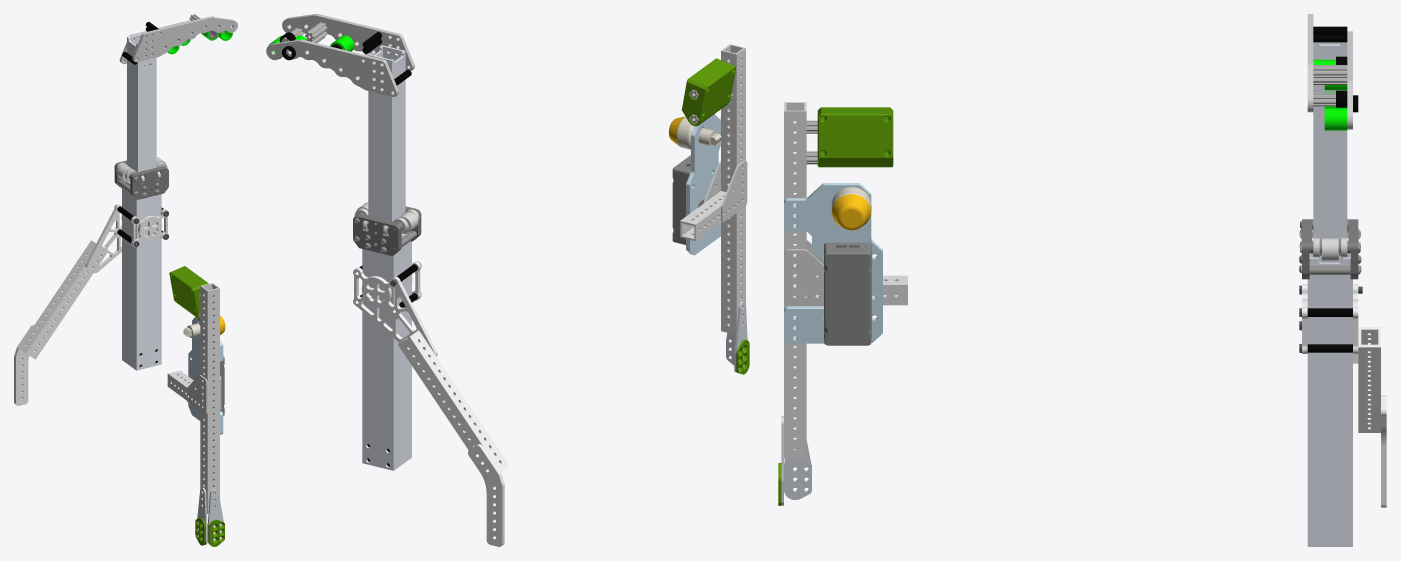
File: Climber.fbx
3 renders of one model, left to right at view 1: azimuth 30°, elevation 25°; view 2: azimuth 150°, elevation 25°; view 3: azimuth 270°, elevation 25°, orthographic. The views are drawn at different scales.
Parts seen in each view (by area): view 1: 2 Stage Base, Tube 1"x1"x17", 2 Stage Mid1, Tube 1"x1"x9".002, Part 2, Part 6.001, Part 3.001, WCP-0419-004 Rev2.001, Part 2.002, Part 9, Part 4.005, 90 Degree Gusset (#10, 0.098" Thick).001 (+5 smaller); view 2: 2 Stage Base, Tube 1"x1"x17", 2 Stage Mid1, Tube 1"x1"x9".002, Part 1, Part 3.001, Part 9, Part 6.001, Part 2, Part 2.002, WCP-0419-004 Rev2, Tube 1"x1"x4.5" (+3 smaller); view 3: 2 Stage Base, Part 9, Tube 1"x1"x17", Robot Radio (VH-109), 2 Stage Mid1, Part 6.001, Tube 1"x1"x9".002, 90 Degree Gusset (#10, 0.098" Thick), Robot Signal Light (RSL) (Allen Bradley), Part 4.001, Tube 1"x1"x4.5".
Boxes of the visible parts, x1=… form: 2 Stage Base: x1=122, y1=180, x2=161, y2=370; Tube 1"x1"x17": x1=200, y1=283, x2=219, y2=513; 2 Stage Mid1: x1=127, y1=33, x2=156, y2=172; Tube 1"x1"x9".002: x1=19, y1=240, x2=107, y2=359; Part 2: x1=132, y1=16, x2=237, y2=62; Part 6.001: x1=169, y1=266, x2=208, y2=319; Part 3.001: x1=85, y1=204, x2=121, y2=273; WCP-0419-004 Rev2.001: x1=129, y1=166, x2=168, y2=199; Part 2.002: x1=14, y1=324, x2=34, y2=405; Part 9: x1=188, y1=317, x2=223, y2=434; Part 4.005: x1=131, y1=209, x2=168, y2=247; 90 Degree Gusset (#10, 0.098" Thick).001: x1=186, y1=375, x2=207, y2=414; 2 Stage Base: x1=362, y1=231, x2=411, y2=470; Tube 1"x1"x17": x1=721, y1=44, x2=745, y2=334; 2 Stage Mid1: x1=368, y1=45, x2=405, y2=221; Tube 1"x1"x9".002: x1=398, y1=330, x2=509, y2=472; Part 1: x1=266, y1=39, x2=398, y2=96; Part 3.001: x1=353, y1=267, x2=437, y2=355; Part 9: x1=686, y1=114, x2=720, y2=255; Part 6.001: x1=682, y1=58, x2=735, y2=126; Part 2: x1=282, y1=14, x2=414, y2=70; Part 2.002: x1=468, y1=444, x2=504, y2=546; WCP-0419-004 Rev2: x1=353, y1=213, x2=402, y2=255; Tube 1"x1"x4.5": x1=680, y1=191, x2=726, y2=241; 2 Stage Base: x1=1307, y1=239, x2=1352, y2=546; Part 9: x1=784, y1=183, x2=882, y2=343; Tube 1"x1"x17": x1=784, y1=102, x2=806, y2=458; Robot Radio (VH-109): x1=824, y1=242, x2=871, y2=345; 2 Stage Mid1: x1=1313, y1=26, x2=1347, y2=262; Part 6.001: x1=817, y1=107, x2=893, y2=167; Tube 1"x1"x9".002: x1=1358, y1=327, x2=1380, y2=432; 90 Degree Gusset (#10, 0.098" Thick): x1=784, y1=249, x2=823, y2=306; Robot Signal Light (RSL) (Allen Bradley): x1=831, y1=187, x2=871, y2=230; Part 4.001: x1=784, y1=440, x2=811, y2=499; Tube 1"x1"x4.5": x1=806, y1=275, x2=907, y2=305.
Bounding box in the file's own units: 41.11 × 70.49 × 68.58.
